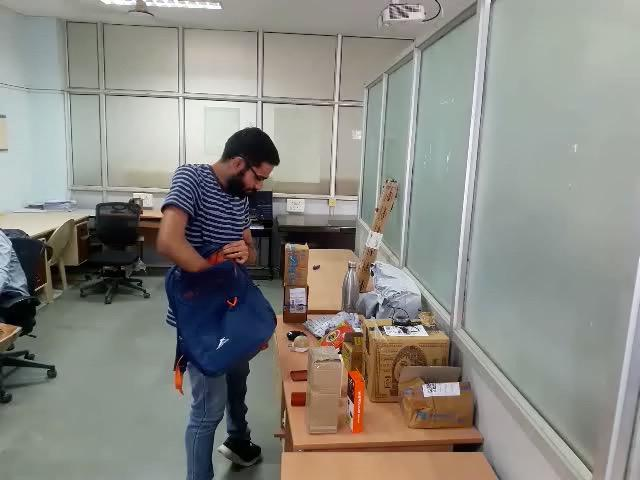Normal: (5, 6, 586, 480)
shoplifting: (116, 188, 329, 404), (130, 213, 293, 294)
